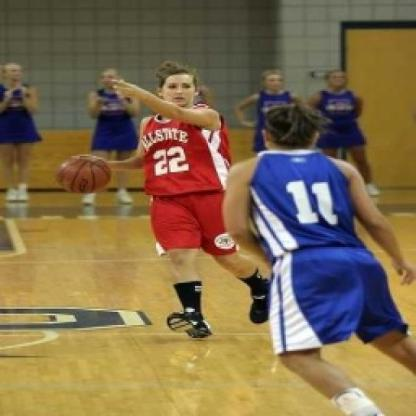basketball: (54, 155, 115, 195)
